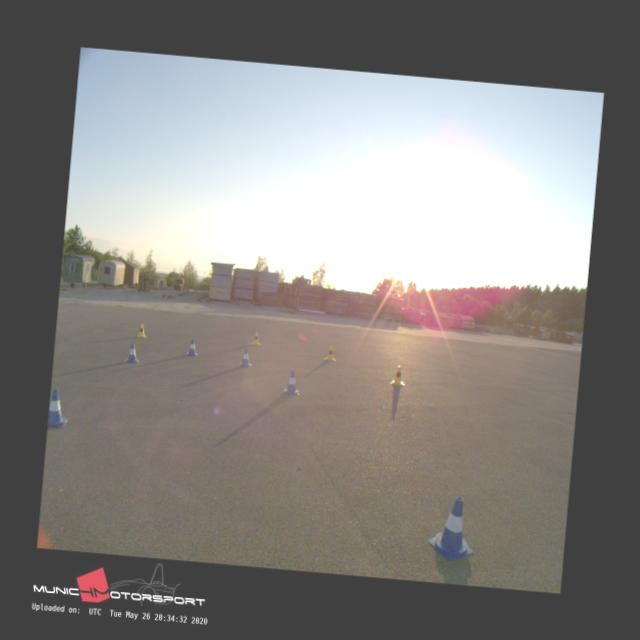blue_cone: (427, 494, 477, 562), (48, 388, 70, 428), (283, 370, 300, 394), (124, 342, 140, 362), (238, 347, 252, 366), (185, 340, 198, 356)
yellow_cone: (389, 364, 406, 384), (323, 344, 336, 360), (136, 323, 147, 337), (250, 331, 260, 345)
